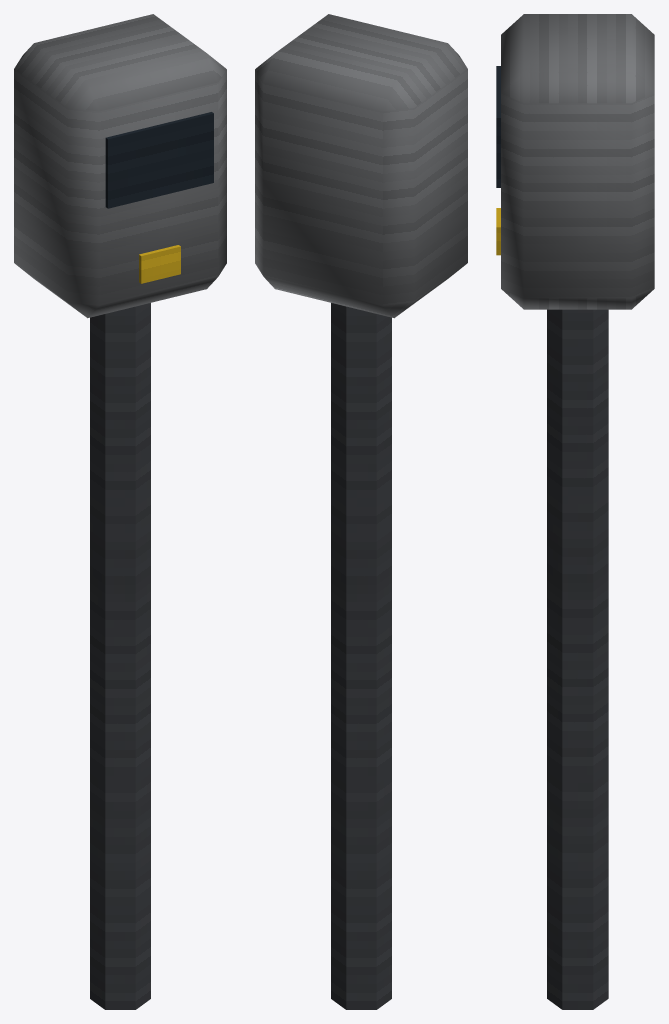
The model's file is parquimetro.glb.
The picture shows the model from 3 angles, left to right: view 1: azimuth 30°, elevation 25°; view 2: azimuth 150°, elevation 25°; view 3: azimuth 270°, elevation 25°; orthographic projection.
Visible parts, largest first — view 1: Inteiro; view 2: Inteiro; view 3: Inteiro.
Boxes of the visible parts, x1,y1,x2,y2 form: Inteiro: [14, 14, 226, 1009]; Inteiro: [255, 14, 467, 1009]; Inteiro: [496, 14, 654, 1009].
Bounding box in the file's own units: 0.24 × 1.37 × 0.206.
Materials: 1 (1 with a texture image).
